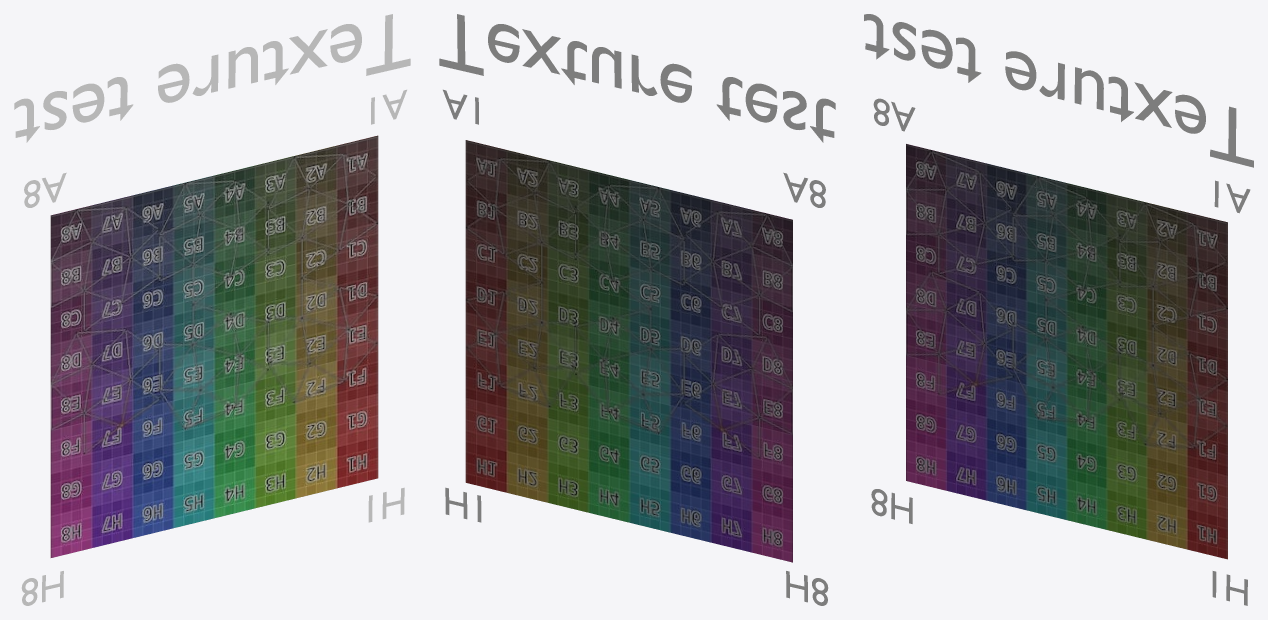
3 views of the same model, side by side, from view 1: azimuth 30°, elevation 25°; view 2: azimuth 150°, elevation 25°; view 3: azimuth 330°, elevation 25° (orthographic).
Visible parts, largest first — view 1: Plane.024, Text.004; view 2: Plane.024, Text.004; view 3: Plane.024, Text.004.
Boxes of the visible parts, <box> form: Plane.024: <box>50,135,378,557</box>; Text.004: <box>14,14,410,605</box>; Plane.024: <box>465,140,792,562</box>; Text.004: <box>439,14,835,605</box>; Plane.024: <box>906,144,1227,559</box>; Text.004: <box>864,14,1253,605</box>.
Bounding box in the file's own units: 36.7 × 44.97 × 0.4843.
2 materials, 1 textured.
